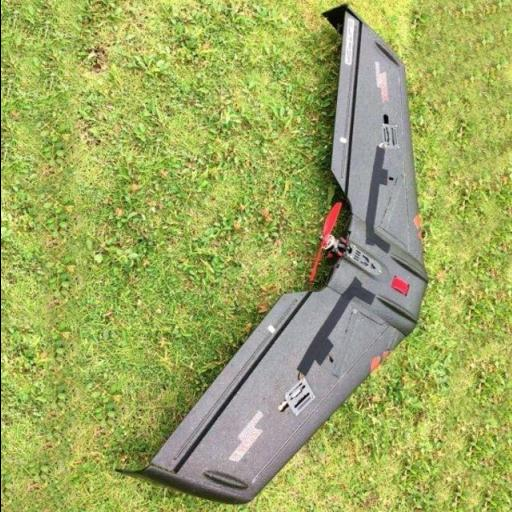uav: (120, 0, 432, 509)
